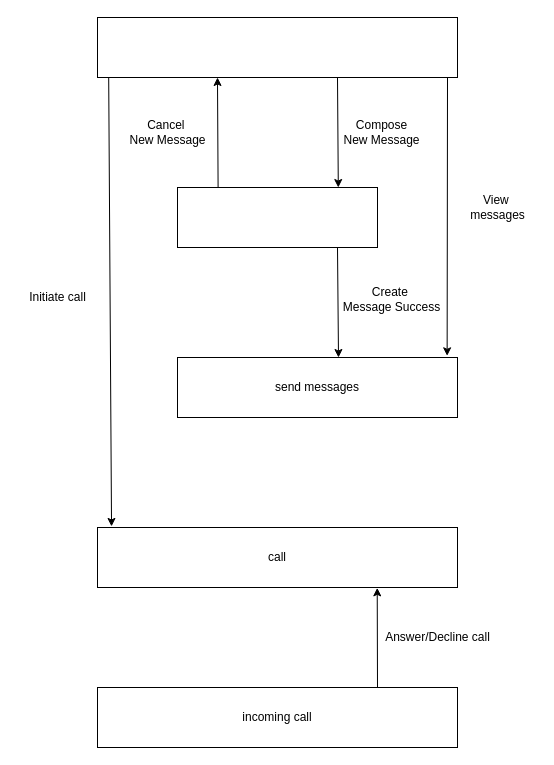
Some shapes in this 554 by 765 pixel diagram are drawn without their labels. Here are the shapes that lost their labels. From the top down, the box of each, then its label:
(96, 16, 458, 78): view channel activities
(176, 186, 378, 248): compose message
